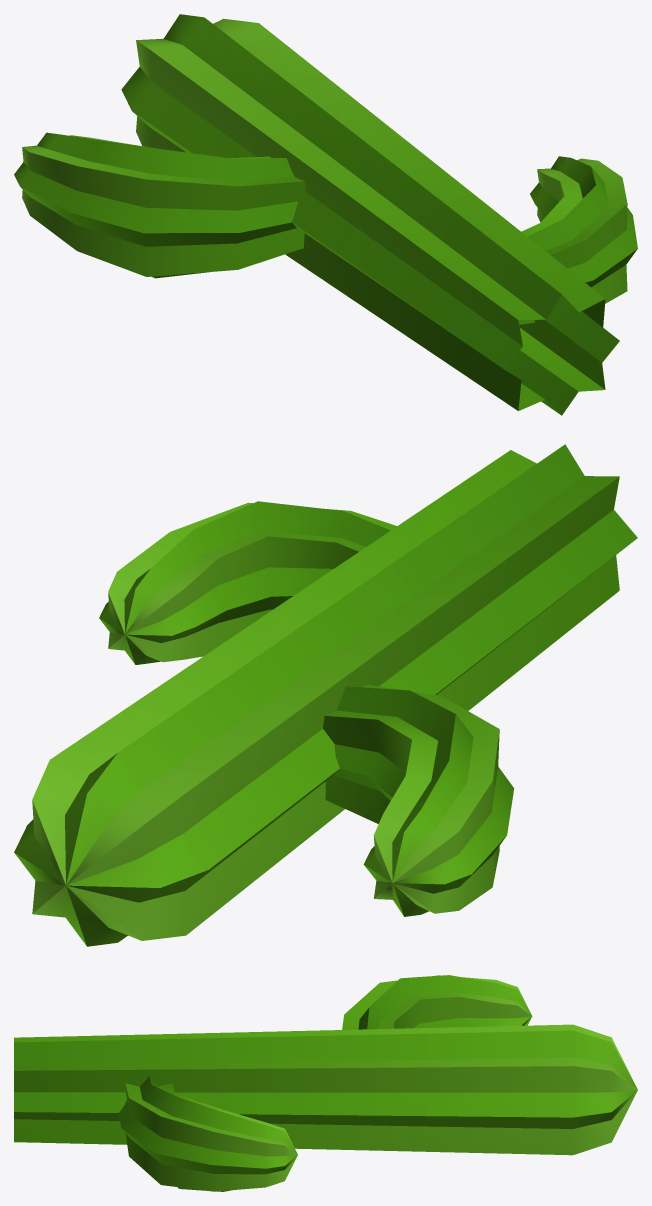
Rendered from Cactus 03.FBX.
3 renders of one model, top to bottom at view 1: azimuth 30°, elevation 25°; view 2: azimuth 150°, elevation 25°; view 3: azimuth 270°, elevation 25°, orthographic. The views are drawn at different scales.
Visible parts, largest first — view 1: Cactus 03; view 2: Cactus 03; view 3: Cactus 03.
Boxes of the visible parts, <box> form: Cactus 03: <box>14,14,637,415</box>; Cactus 03: <box>14,444,637,946</box>; Cactus 03: <box>14,975,637,1191</box>.
Bounding box in the file's own units: 139 × 45.86 × 218.
Materials: 1 (1 with a texture image).
